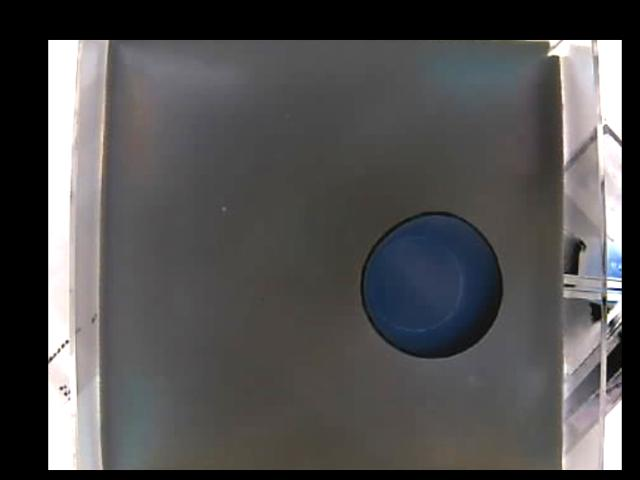Cup: (360, 211, 505, 362)
